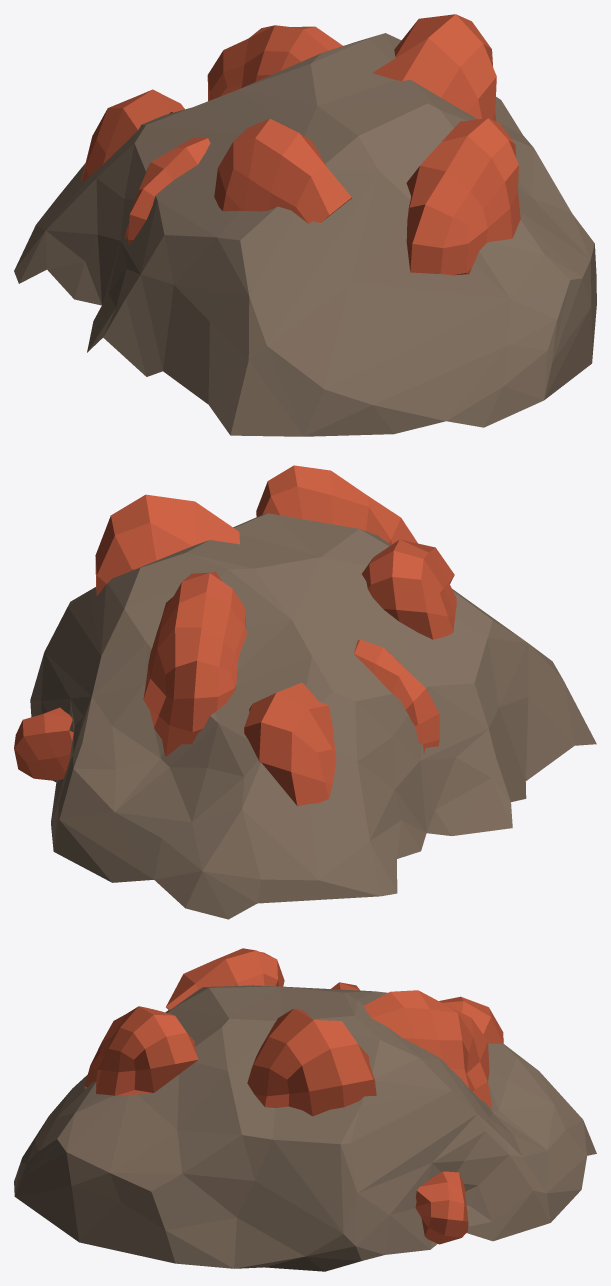
File: iron_ore.fbx
3 renders of one model, top to bottom at view 1: azimuth 30°, elevation 25°; view 2: azimuth 150°, elevation 25°; view 3: azimuth 270°, elevation 25°, orthographic. The views are drawn at different scales.
Parts seen in each view (by area): view 1: basic_rock.002, ore.006; view 2: basic_rock.002, ore.006; view 3: basic_rock.002, ore.006.
Part boxes in pixels (left/top/right/bottom): basic_rock.002: left=14, top=33, right=596, bottom=436; ore.006: left=81, top=14, right=520, bottom=275; basic_rock.002: left=30, top=513, right=596, bottom=919; ore.006: left=14, top=465, right=456, bottom=805; basic_rock.002: left=14, top=985, right=596, bottom=1271; ore.006: left=84, top=948, right=503, bottom=1244.
Bounding box in the file's own units: 306 × 163 × 380.
